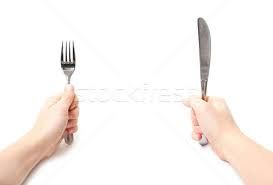knife: (193, 16, 214, 149)
